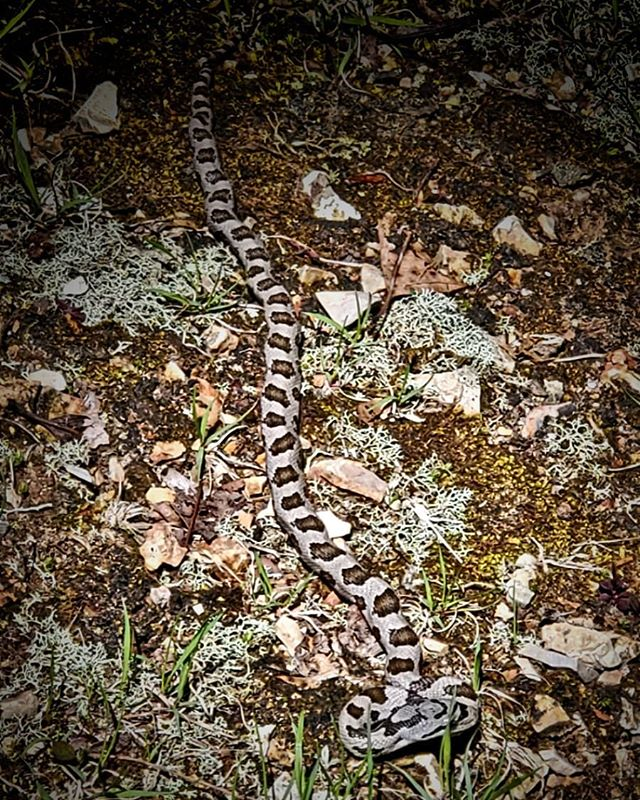animal: (159, 41, 488, 761)
vegetation: (1, 2, 640, 800)
